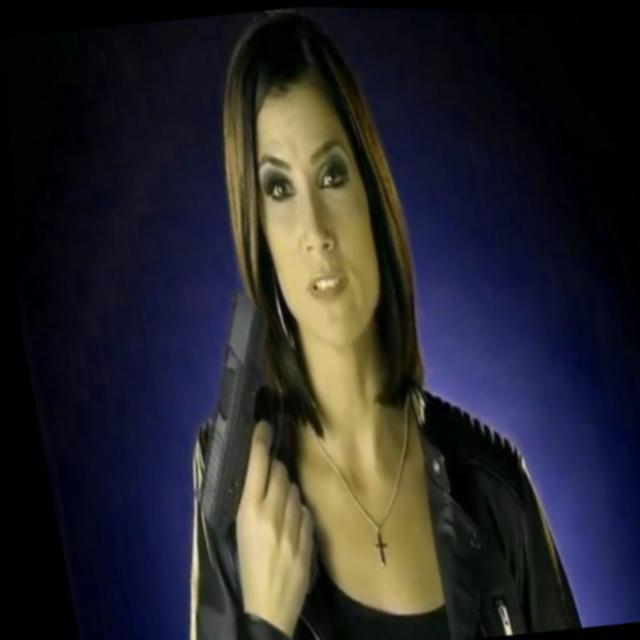weapon: (152, 284, 302, 543)
